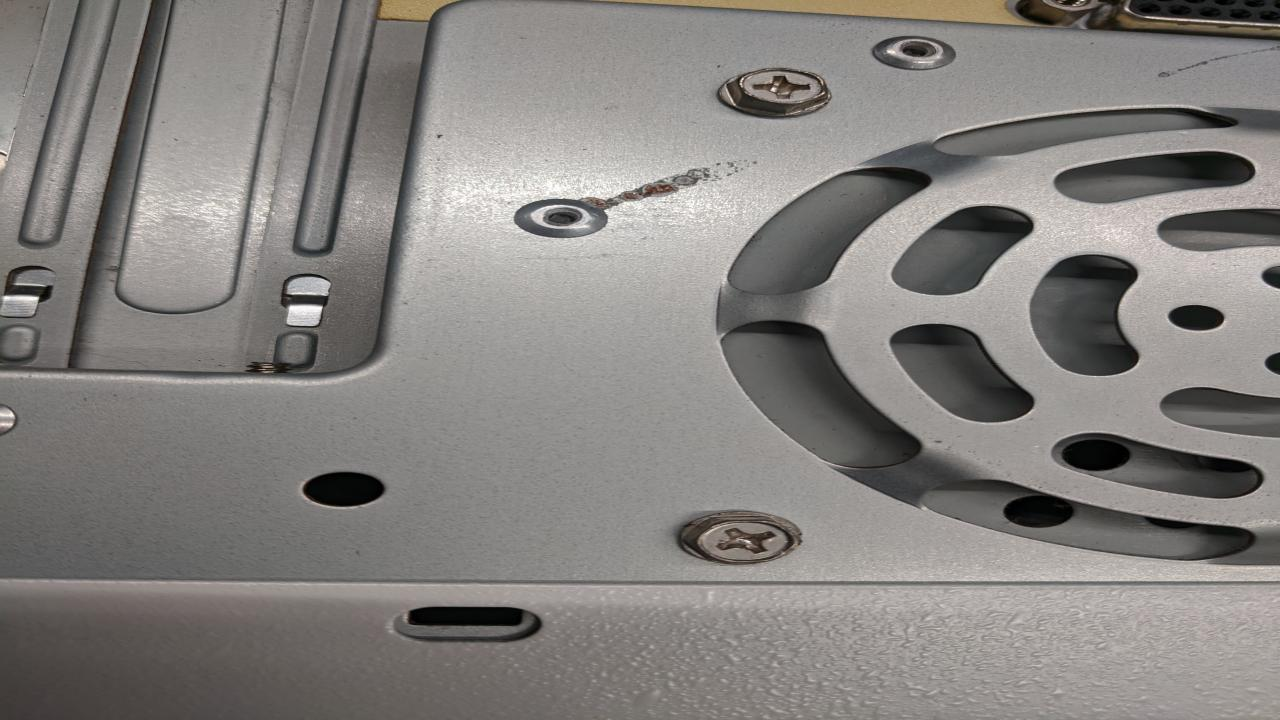CRS: (684, 512, 797, 562), (722, 69, 833, 112)
